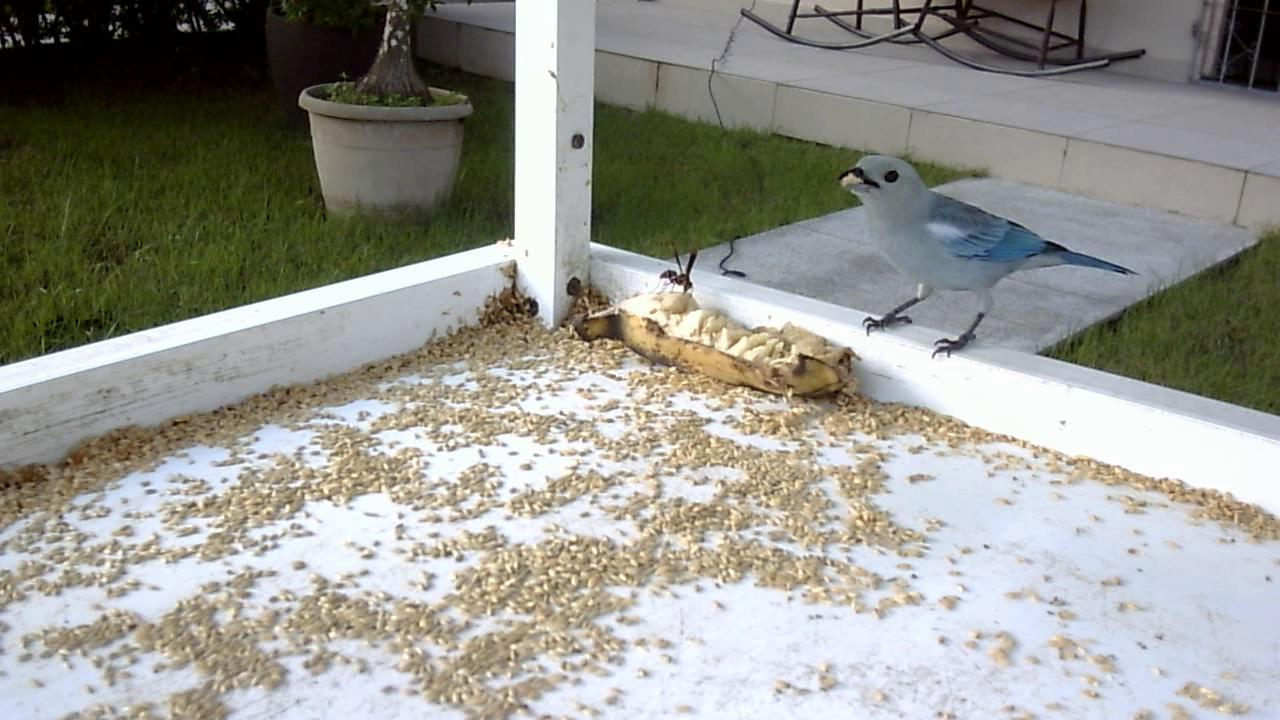sanhaco_da_amazonia: (826, 152, 1146, 370)
